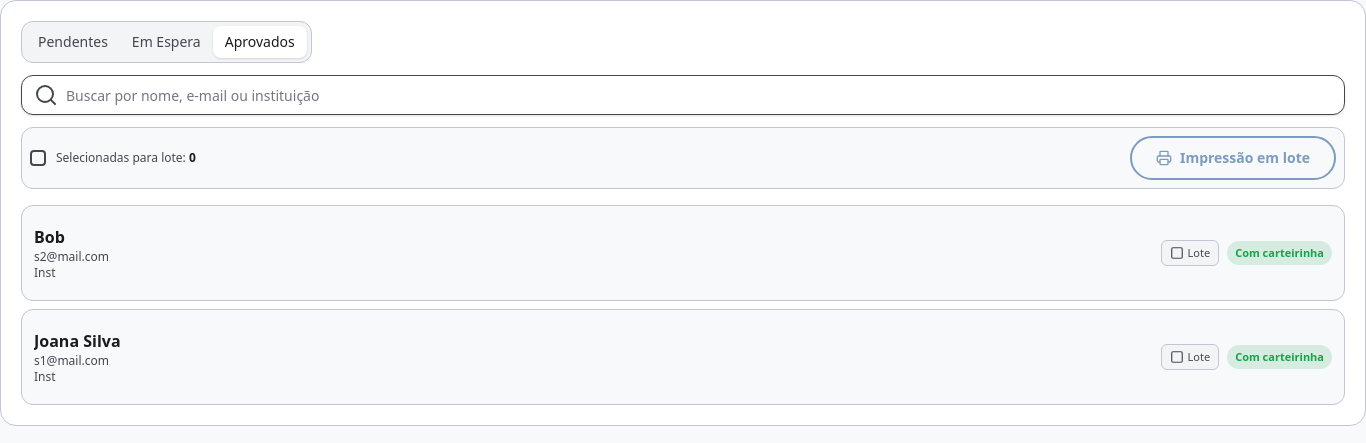
Test: StudentListPanel — busca por nome social e nome civil › também encontra o mesmo aluno buscando pelo nome civil
Type "João Silva" into the field with placeholder "Buscar por nome, e-mail ou instituição".
click(687, 95); type("João Silva")  # box [30, 76, 1344, 114]
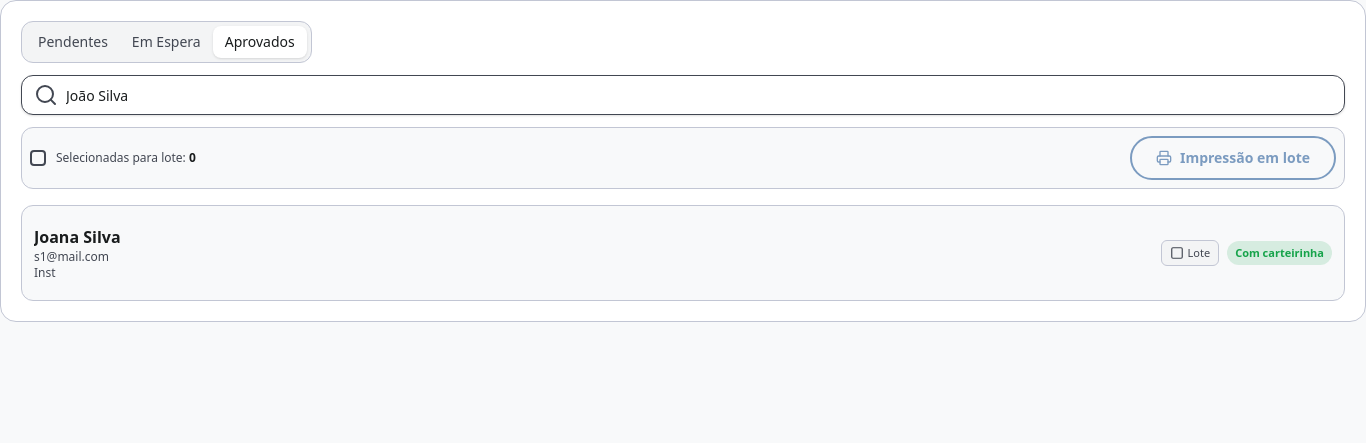
Expected: the text "Joana Silva" is shown, [34, 226, 120, 248]
Expected: the button "Bob" is gone
